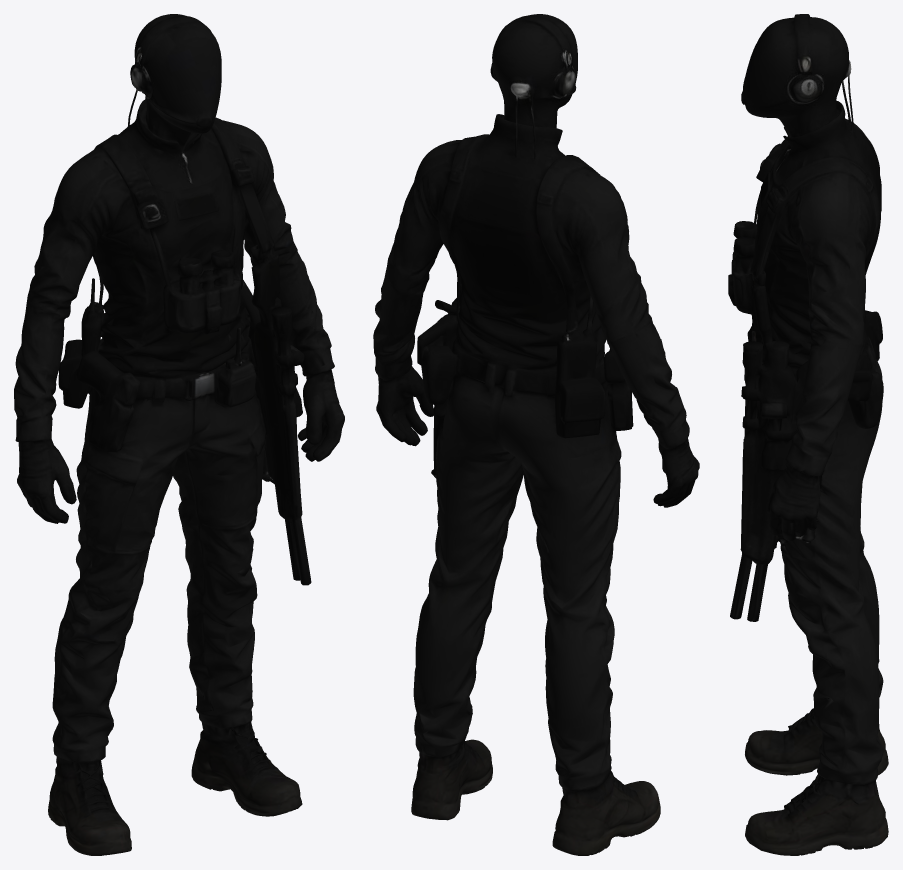
3 views of the same model, side by side, from view 1: azimuth 30°, elevation 25°; view 2: azimuth 150°, elevation 25°; view 3: azimuth 270°, elevation 25° (orthographic).
Visible parts, largest first — view 1: material; view 2: material; view 3: material.
Part boxes in pixels (x1,y1,x2,y2): material: [14, 14, 344, 855]; material: [373, 14, 699, 855]; material: [728, 14, 888, 855].
Size of the model in its own units: 0.4789 by 1.16 by 0.2136.
Materials: 1 (1 with a texture image).
